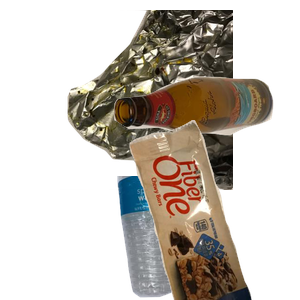glass: (111, 74, 300, 204)
metal: (60, 10, 300, 190)
plastic: (115, 176, 288, 300)
trash: (127, 120, 300, 300)
